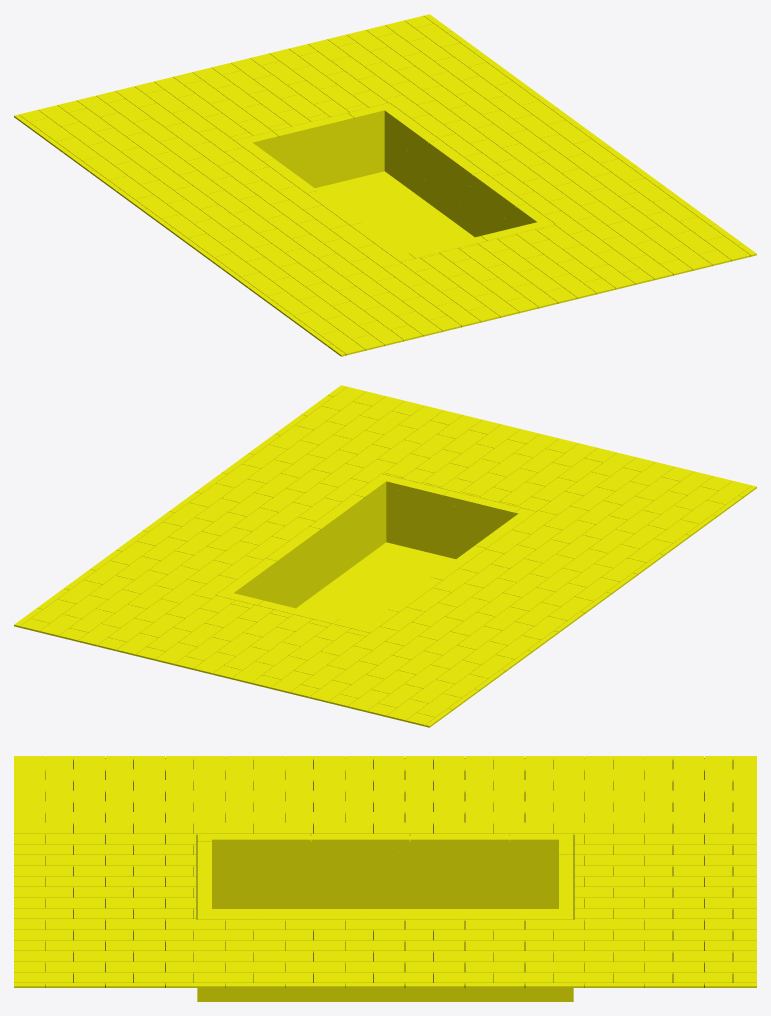
File: pool.glb
The picture shows the model from 3 angles, top to bottom: view 1: azimuth 30°, elevation 25°; view 2: azimuth 150°, elevation 25°; view 3: azimuth 270°, elevation 25°; orthographic projection. The views are drawn at different scales.
Visible parts, largest first — view 1: Pool; view 2: Pool; view 3: Pool, Floor_Underground.
Boxes of the visible parts, <box> form: Pool: <box>14,14,756,356</box>; Pool: <box>14,385,756,727</box>; Pool: <box>14,756,756,1001</box>; Floor_Underground: <box>45,758,733,987</box>.
Size of the model in its own units: 11 by 1.84 by 15.
